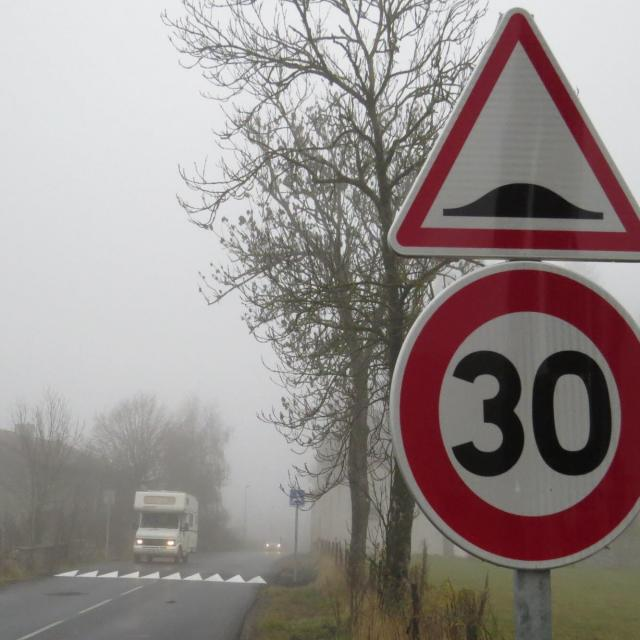hump: (381, 5, 640, 268)
